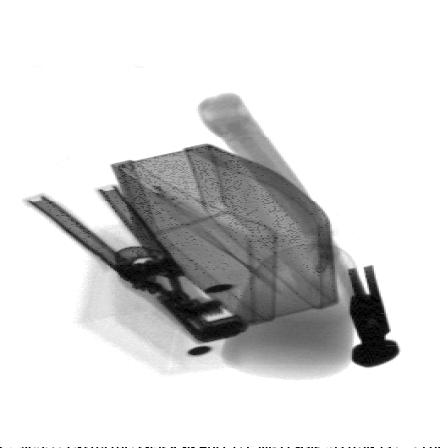Hammer: (195, 92, 400, 368)
Pliers: (23, 183, 250, 345)
